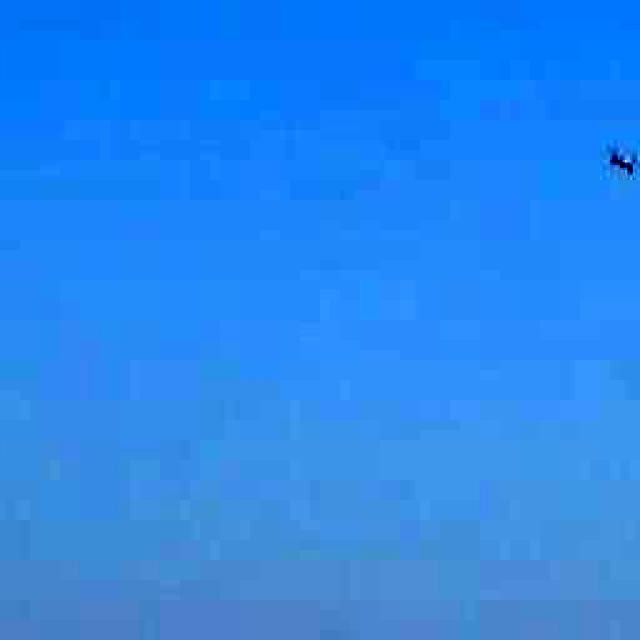bird: (584, 115, 640, 202)
